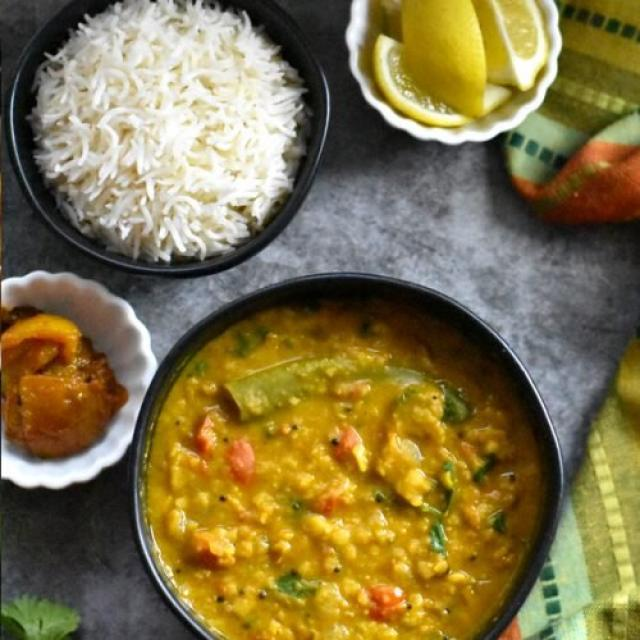dal: (201, 340, 509, 634)
rice: (58, 7, 280, 234)
